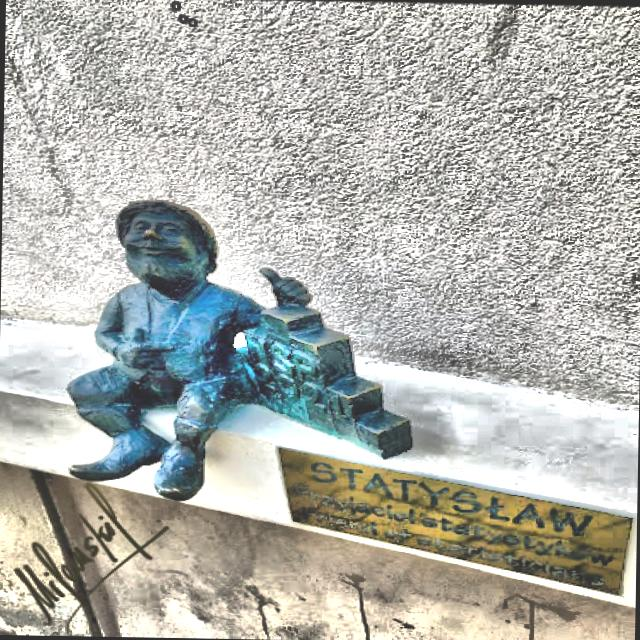Statyslaw: (69, 201, 411, 500)
